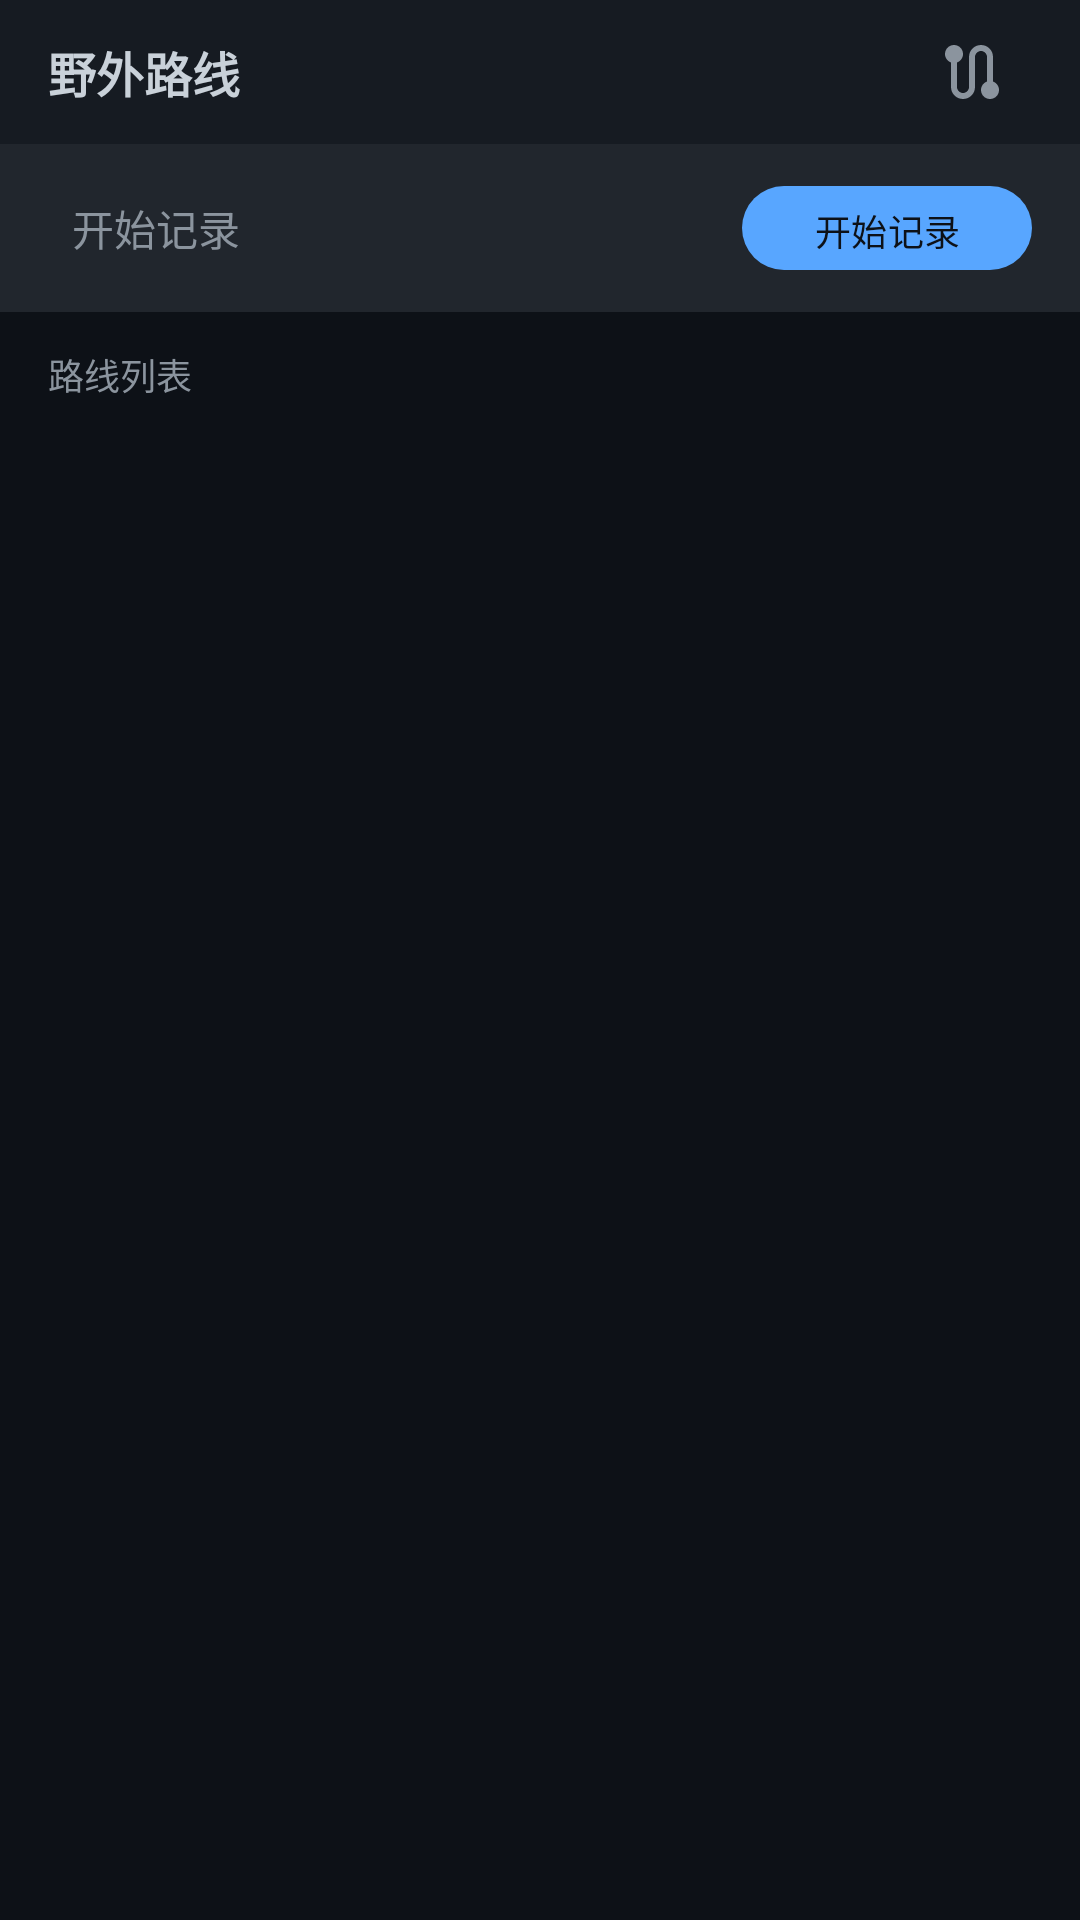

Icon bounding boxes for this 1080px×1920px phone screenshot, format (x1, y1, x2, y2):
路线规划: (945, 45, 999, 99)
